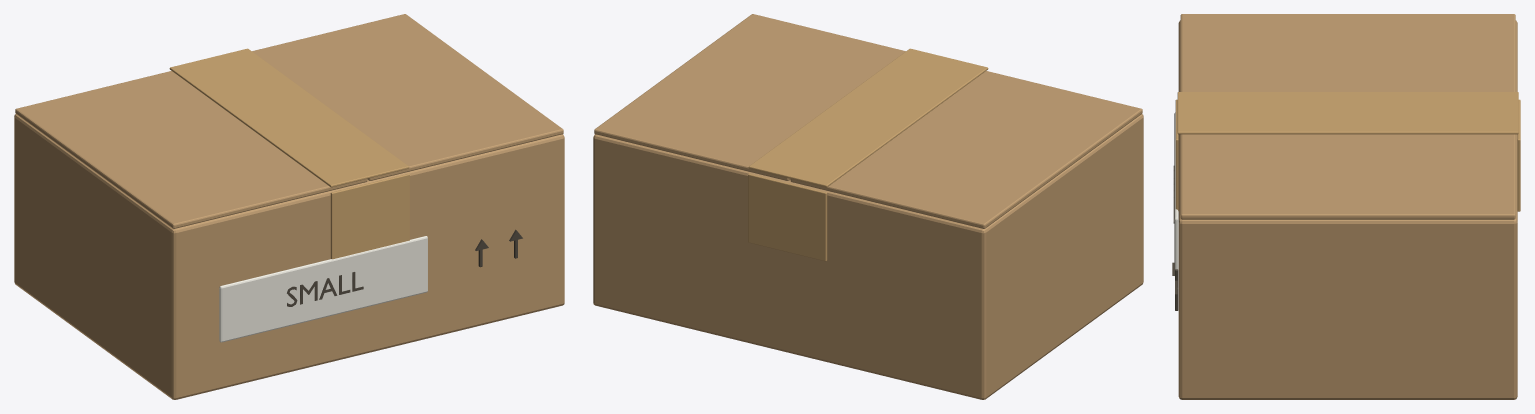
Rendered from box_small.glb.
3 renders of one model, left to right at view 1: azimuth 30°, elevation 25°; view 2: azimuth 150°, elevation 25°; view 3: azimuth 270°, elevation 25°, orthographic. The views are drawn at different scales.
Visible parts, largest first — view 1: Small parcel closed carton, Small parcel top flap, Small parcel top flap.001, Small parcel top tape, Small parcel shipping label, Small parcel tape down side, Small parcel size marking; view 2: Small parcel closed carton, Small parcel top flap, Small parcel top flap.001, Small parcel top tape, Small parcel tape down side.001; view 3: Small parcel closed carton, Small parcel top flap.001, Small parcel top flap, Small parcel top tape, Small parcel shipping label, Small parcel tape down side.001, Small parcel tape down side.
Part boxes in pixels (x1=…): Small parcel closed carton: x1=14, y1=114, x2=564, y2=399; Small parcel top flap: x1=15, y1=71, x2=367, y2=228; Small parcel top flap.001: x1=252, y1=14, x2=563, y2=180; Small parcel top tape: x1=169, y1=48, x2=409, y2=187; Small parcel shipping label: x1=219, y1=236, x2=427, y2=342; Small parcel tape down side: x1=330, y1=173, x2=409, y2=259; Small parcel size marking: x1=287, y1=272, x2=363, y2=306; Small parcel closed carton: x1=593, y1=114, x2=1143, y2=399; Small parcel top flap: x1=790, y1=71, x2=1142, y2=228; Small parcel top flap.001: x1=594, y1=14, x2=905, y2=180; Small parcel top tape: x1=748, y1=48, x2=988, y2=187; Small parcel tape down side.001: x1=748, y1=173, x2=827, y2=261; Small parcel closed carton: x1=1178, y1=20, x2=1517, y2=399; Small parcel top flap.001: x1=1180, y1=134, x2=1515, y2=219; Small parcel top flap: x1=1180, y1=14, x2=1515, y2=91; Small parcel top tape: x1=1177, y1=92, x2=1518, y2=134; Small parcel shipping label: x1=1174, y1=112, x2=1178, y2=269; Small parcel tape down side.001: x1=1517, y1=99, x2=1520, y2=211; Small parcel tape down side: x1=1175, y1=99, x2=1178, y2=210.
Bounding box in the file's own units: 0.24 × 0.1042 × 0.1745.
